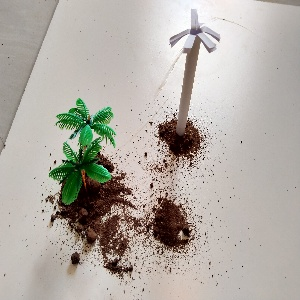plant: (47, 94, 118, 213)
weed: (163, 3, 219, 145)
